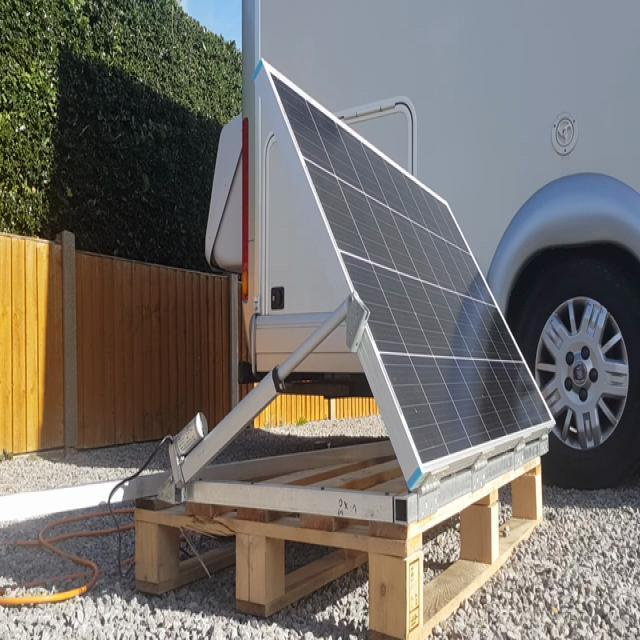Normal Solar Panel: (265, 64, 557, 467)
